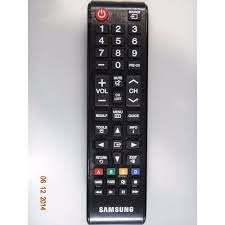remote control: (86, 4, 150, 224)
